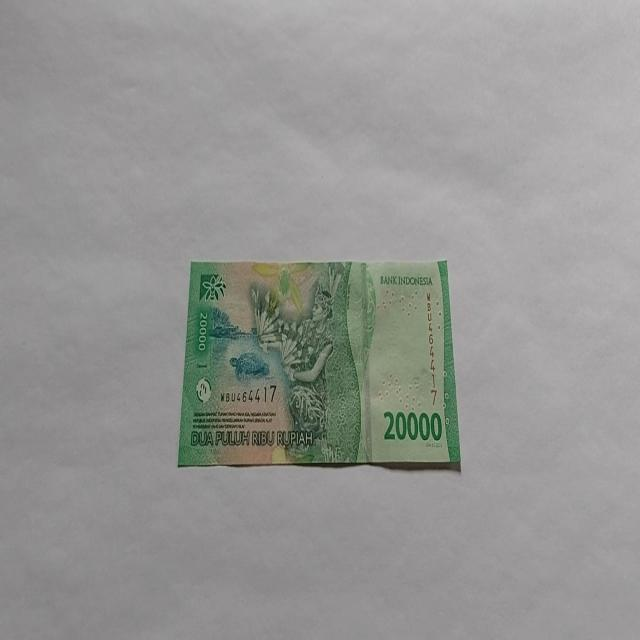dua puluh ribu rupiah: (176, 257, 462, 471)
